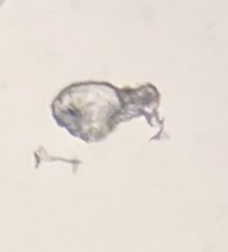microplastic: (52, 81, 172, 143), (34, 146, 81, 173)
